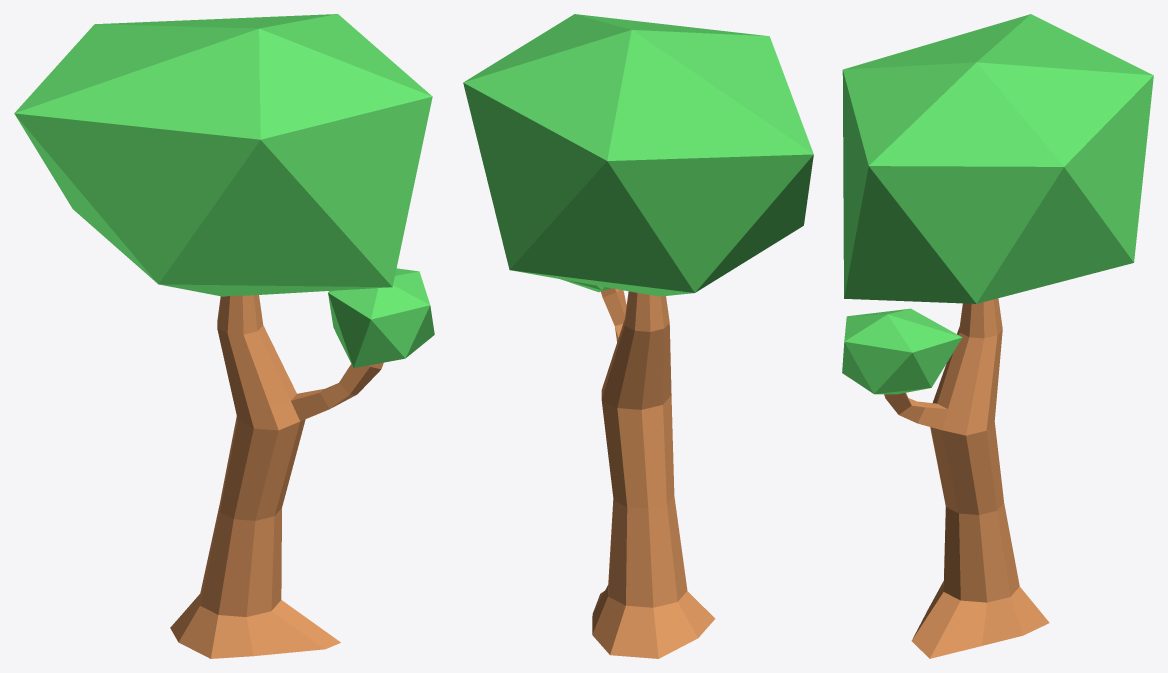
Rendered from tree.fbx.
3 renders of one model, left to right at view 1: azimuth 30°, elevation 25°; view 2: azimuth 150°, elevation 25°; view 3: azimuth 270°, elevation 25°, orthographic. The views are drawn at different scales.
Parts seen in each view (by area): view 1: Icosphere.023; view 2: Icosphere.023; view 3: Icosphere.023.
Part boxes in pixels (bbox=[...]): Icosphere.023: bbox=[14, 14, 434, 658]; Icosphere.023: bbox=[463, 14, 813, 658]; Icosphere.023: bbox=[842, 14, 1153, 658].
Size of the model in its own units: 43.5 by 73.12 by 36.22.
